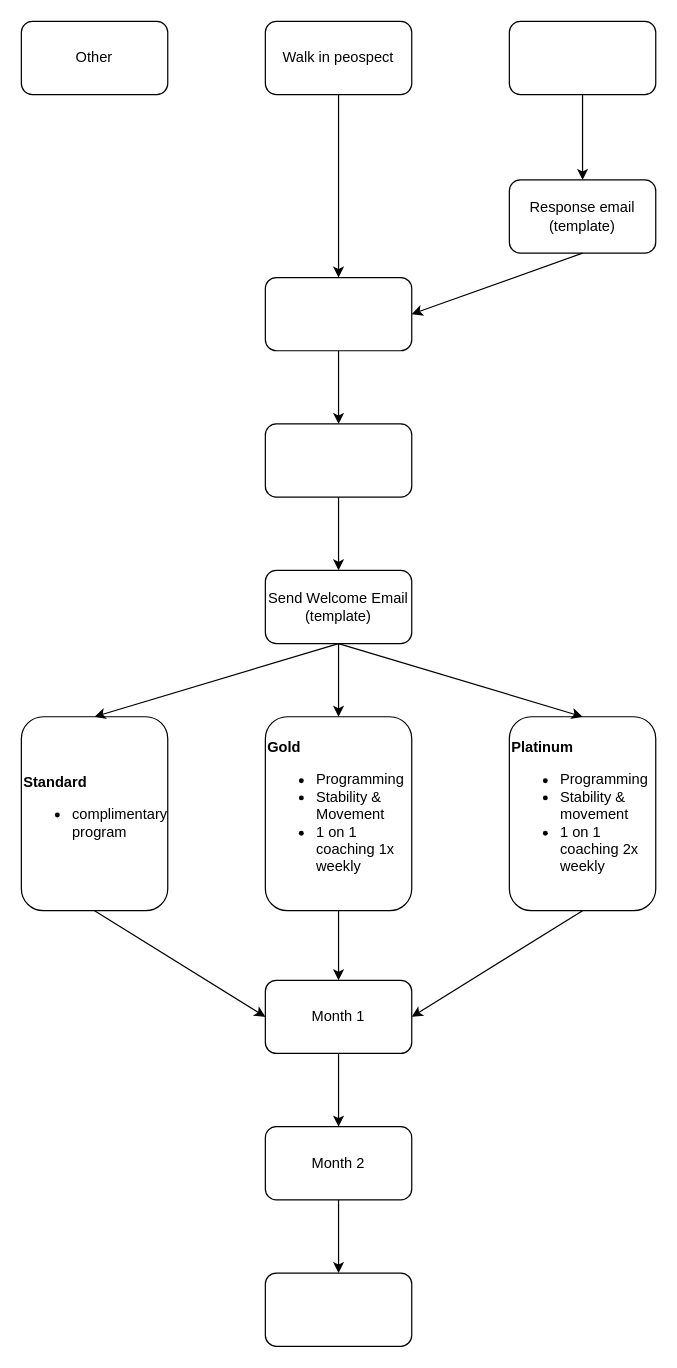
Some shapes in this 677 by 1368 pixel diagram are drawn without their labels. Here are the shapes that lost their labels. From the top down, the centre of each, then its label:
At (582,57): "Email inquiry via website".
At (338,313): "First Meeting".
At (338,460): "Sign on new member".
At (338,1309): "Month 3".
